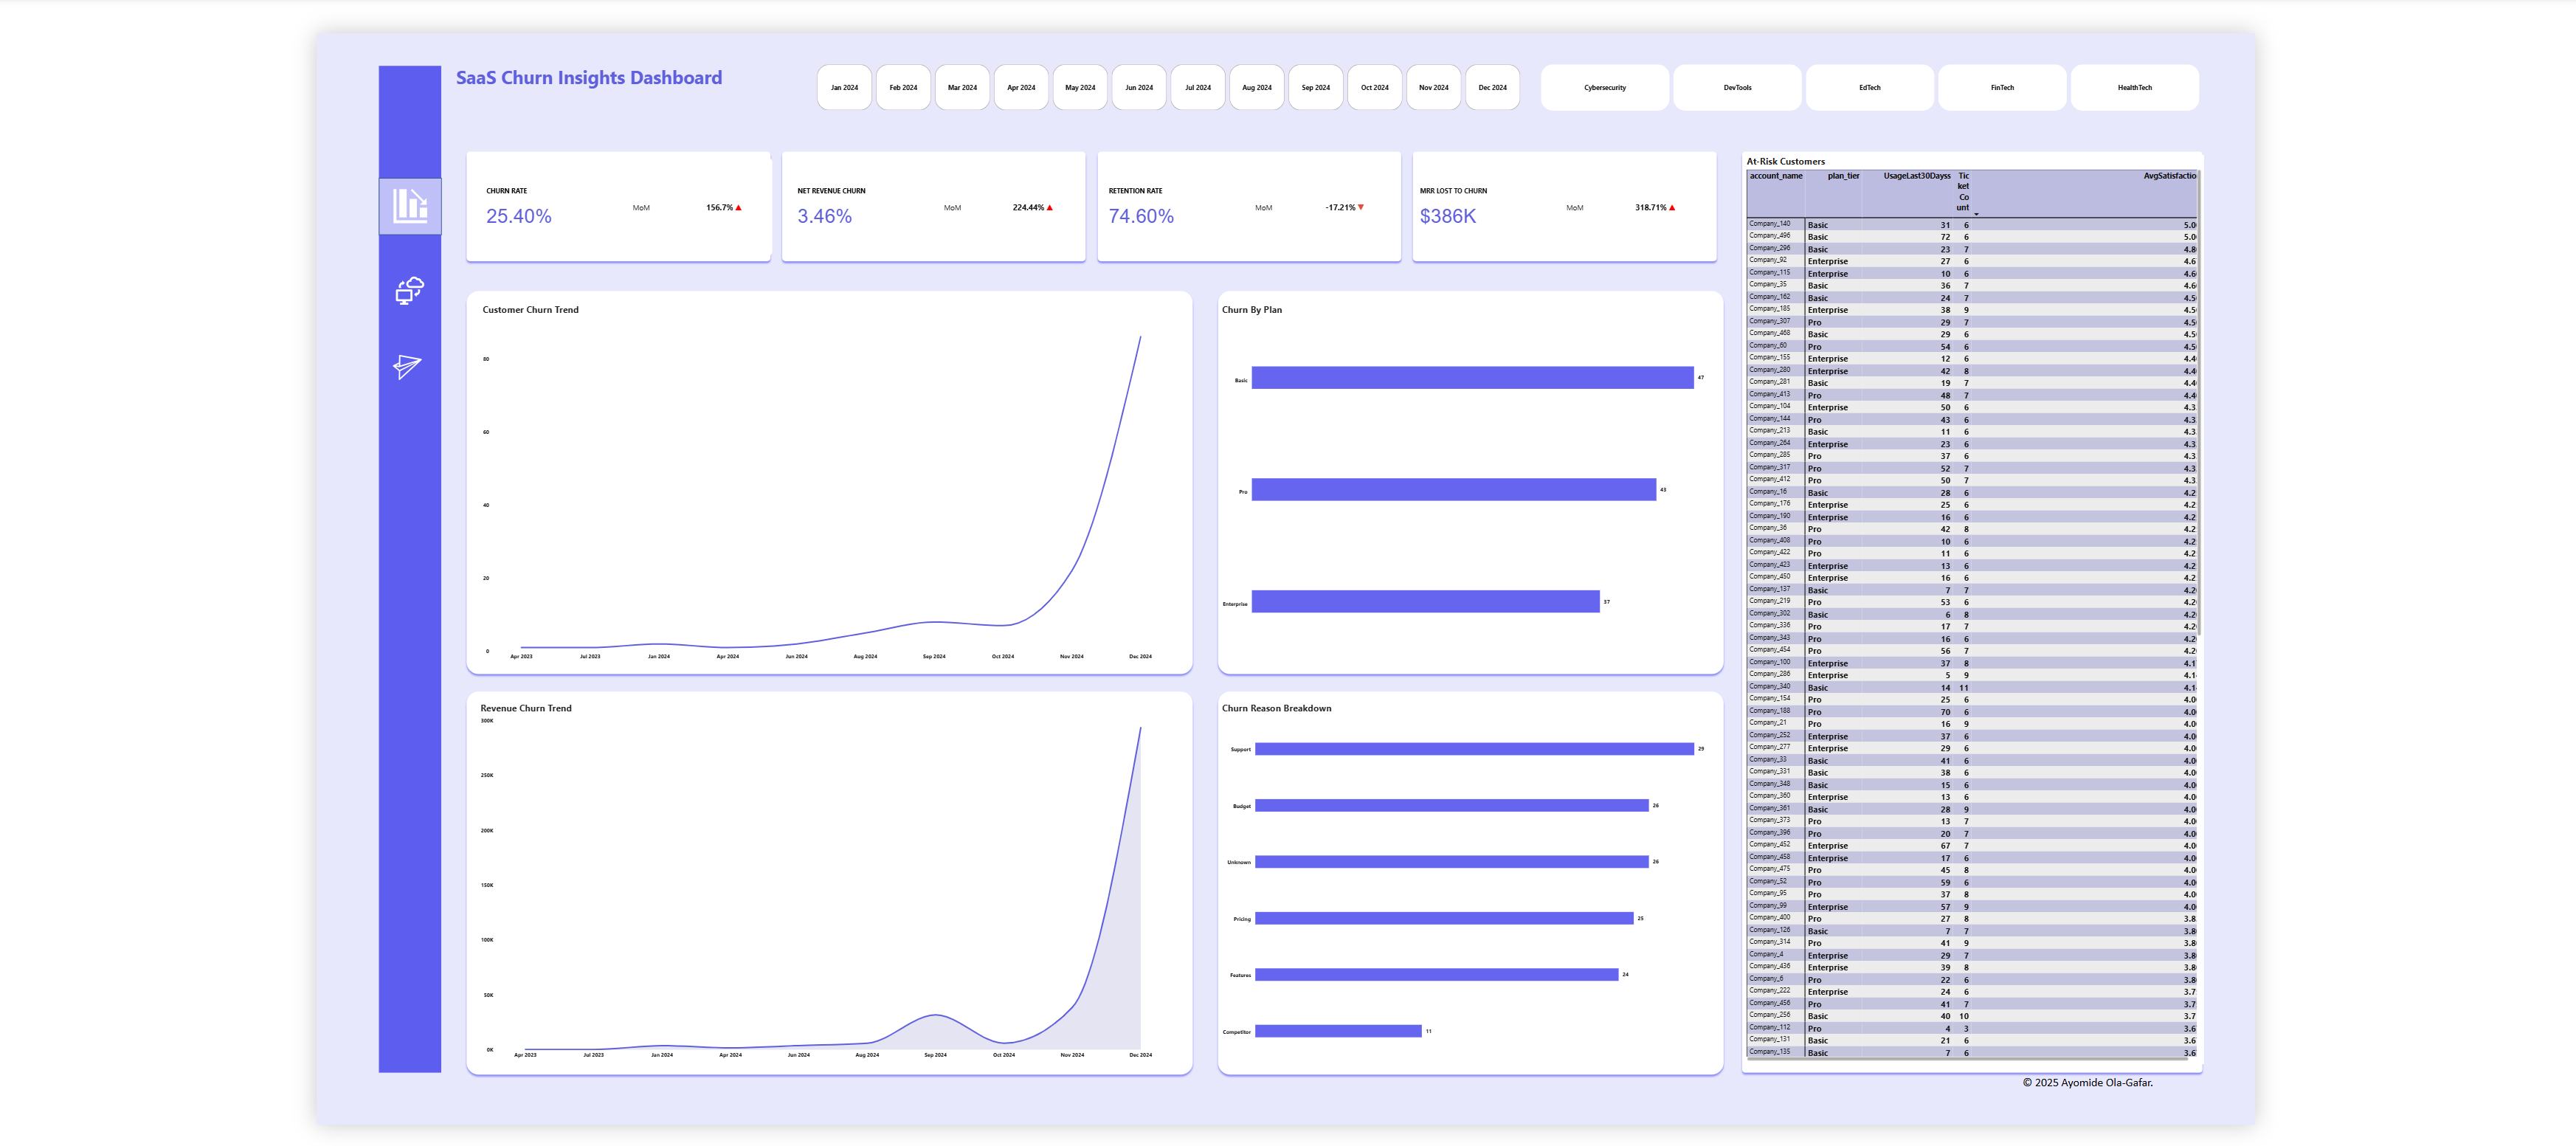

The page's visual inventory and layout, read from the dashboard file:
{"tool":"powerbi","page":{"name":"Page 1","canvas":[3980,2240],"ordinal":0},"visuals":[{"type":"pivotTable","title":"At-Risk Customers","fields":{"Rows":["ravenstack_accounts.account_name"],"Values":["Min(ravenstack_accounts.plan_tier)","_Churn_deep_dive_charts_measures.UsageLast30Dayss","_Churn_deep_dive_charts_measures.TicketCount","_Churn_deep_dive_charts_measures.AvgSatisfaction"]},"box":[2930.4,252.2,943.5,1865.2],"z":6000},{"type":"lineChart","title":"Customer Churn Trend","fields":{"Y":["_Churn_deep_dive_charts_measures.Customer Churn Monthly"],"Category":["DateTable.MonthYear"]},"box":[334.8,556.5,1417.4,743.5],"z":10000},{"type":"lineChart","title":"Revenue Churn Trend","fields":{"Y":["_Churn_deep_dive_charts_measures.MRR Churn Monthly"],"Category":["DateTable.MonthYear"]},"box":[330.4,1373.9,1421.7,743.5],"z":11000},{"type":"cardVisual","fields":{"Data":["_Churn_Deep_Dive_Measures.M1 - Churn Rate %","_Churn_Deep_Dive_Measures.M2 - Net Revenue Churn %","_Churn_Deep_Dive_Measures.M3 - Retention Rate %","_Churn_Deep_Dive_Measures.M4 - MRR Lost to Churn ($)"]},"box":[330.4,252.2,2526.1,213],"z":12000},{"type":"clusteredBarChart","title":"Churn Reason Breakdown","fields":{"Category":["ravenstack_churn_events.reason_code"],"Y":["_Churn_deep_dive_charts_measures.Customer Churn by Reason 2"]},"box":[1856.5,1373.9,1000,743.5],"z":13000},{"type":"barChart","title":"Churn By Plan ","fields":{"Category":["ravenstack_accounts.plan_tier"],"Y":["_Churn_deep_dive_charts_measures.Customer Churn by Segment"]},"box":[1856.5,556.5,1000,743.5],"z":14000},{"type":"textbox","box":[282.6,60.9,739.1,139.1],"z":15000},{"type":"advancedSlicerVisual","fields":{"Values":["DateTable.MonthYear"]},"box":[1021.7,60.9,1456.5,104.3],"z":16000},{"type":"advancedSlicerVisual","fields":{"Values":["ravenstack_accounts.industry"]},"box":[2510,60,1365,105],"z":17000}]}

Visuals, with their boxes on the page's 3980x2240 design canvas (x1, y1, x2, y2). These are canvas units, not pixel positions in the 2576x1146 screenshot, which may show the page scaled, cropped or inside an application window:
"At-Risk Customers" pivotTable: rect(2930, 252, 3874, 2117)
"Customer Churn Trend" lineChart: rect(335, 556, 1752, 1300)
"Revenue Churn Trend" lineChart: rect(330, 1374, 1752, 2117)
cardVisual - _Churn_Deep_Dive_Measures.M1 - Churn Rate % x _Churn_Deep_Dive_Measures.M2 - Net Revenue Churn %: rect(330, 252, 2856, 465)
"Churn Reason Breakdown" clusteredBarChart: rect(1856, 1374, 2856, 2117)
"Churn By Plan " barChart: rect(1856, 556, 2856, 1300)
textbox: rect(283, 61, 1022, 200)
advancedSlicerVisual - DateTable.MonthYear: rect(1022, 61, 2478, 165)
advancedSlicerVisual - ravenstack_accounts.industry: rect(2510, 60, 3875, 165)
